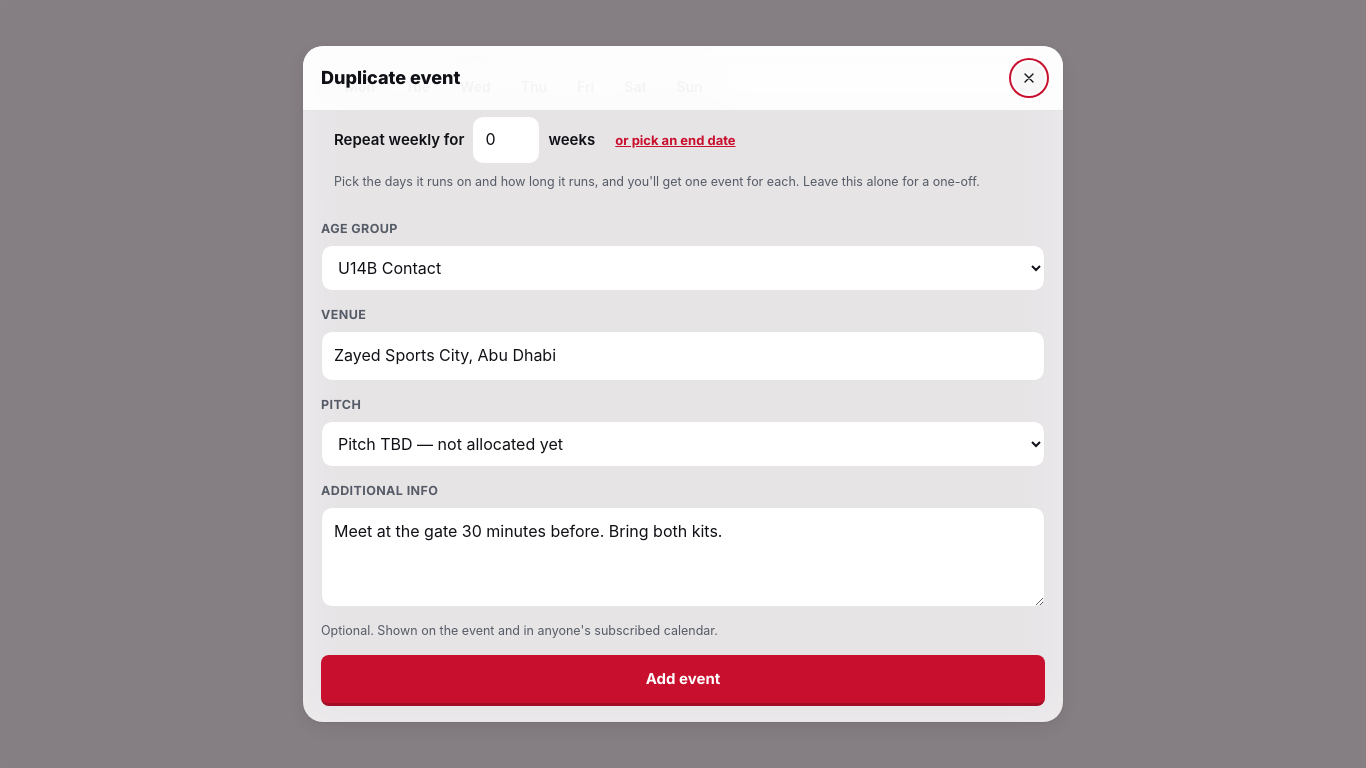
Test case: Duplicate — what must NOT carry over › opens with the date blank and refuses to save until one is picked
(page scrolled)
Click the button "Add event". click: (683, 680)
box: [321,655,1045,706]
(page scrolled)
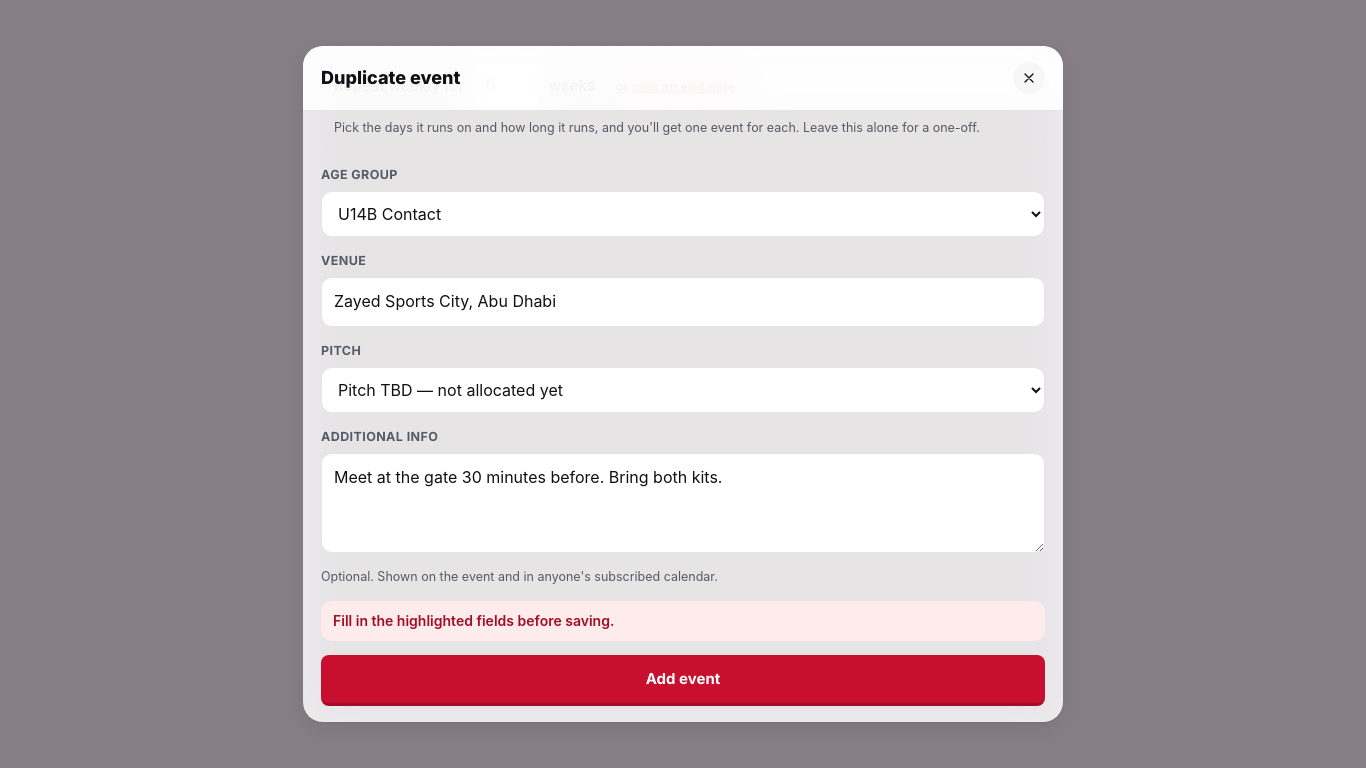
Expected: the message shows "highlighted fields", [333,612,614,629]
